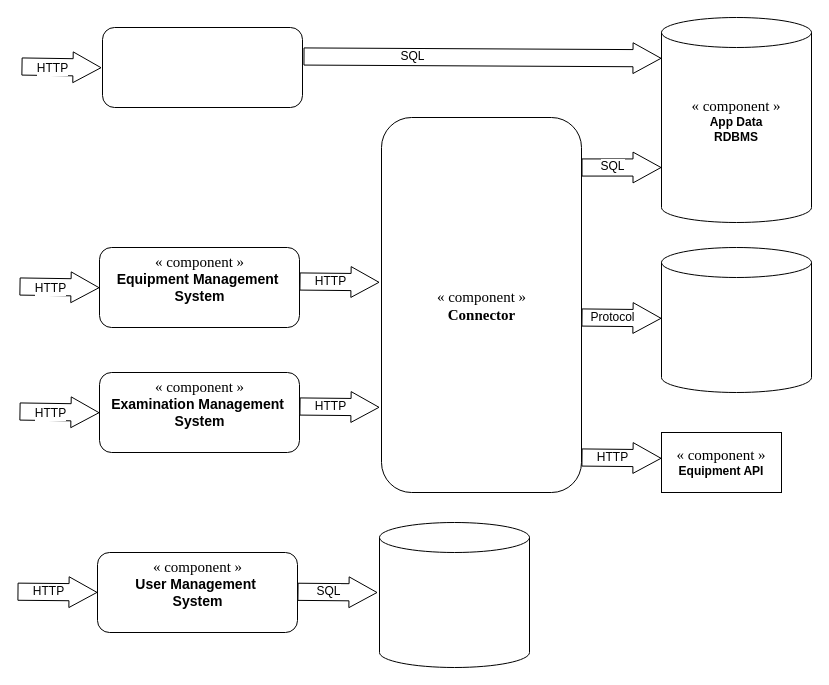
Some shapes in this 829 by 685 pixel diagram are drawn without their labels. Each missing label, with the box of its shape:
« component » Central User Database: (378, 522, 530, 668)
« component » Document management system: (660, 246, 812, 392)
« component » Reservation Management System: (102, 26, 302, 108)
